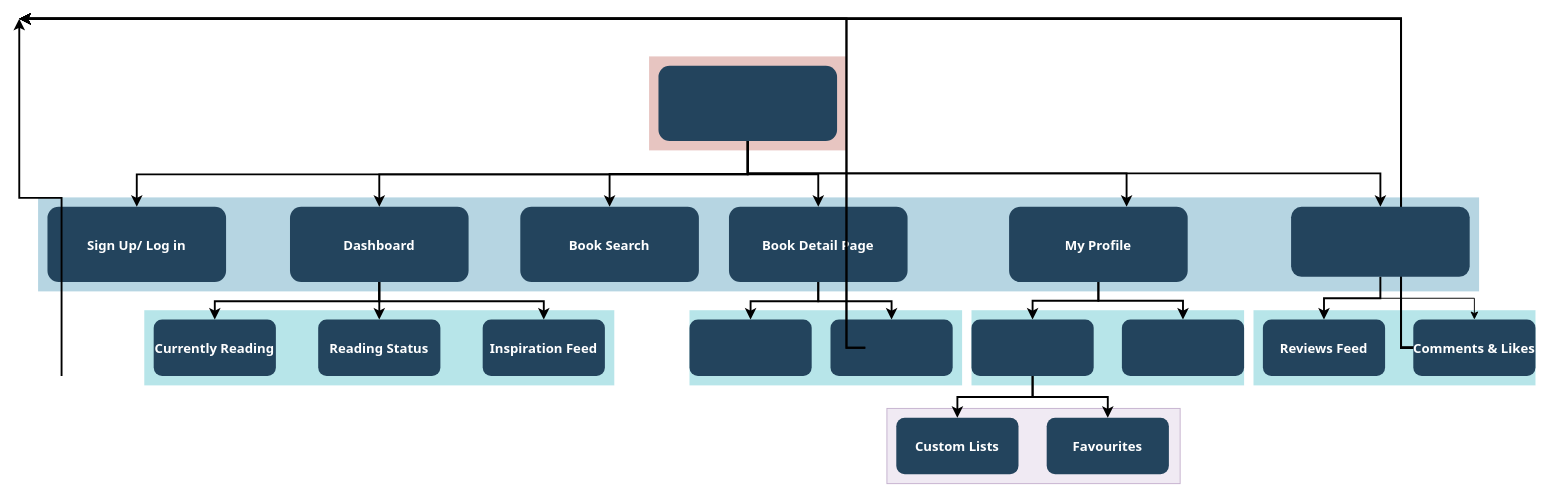
Some shapes in this 1551 by 499 pixel diagram are drawn without their labels. Each missing label, with the centre of its shape:
Add Review/ Mood: (891,347)
Add to Shelf: (750,347)
Community: (1380,241)
Home: (747,103)
My Bookshelf: (1032,347)
Settings: (1182,347)
